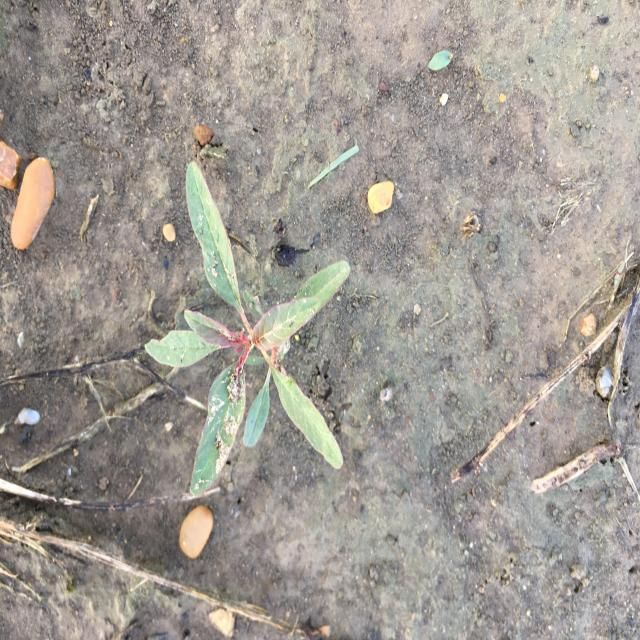Waterhemp: (142, 160, 354, 502)
